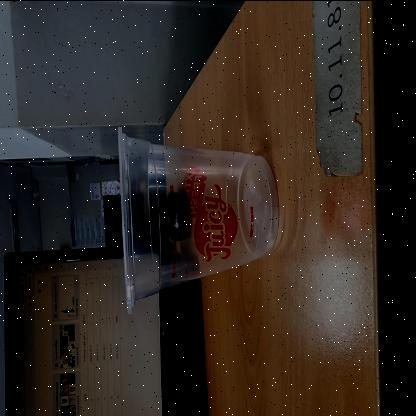Others: (117, 122, 278, 316)
